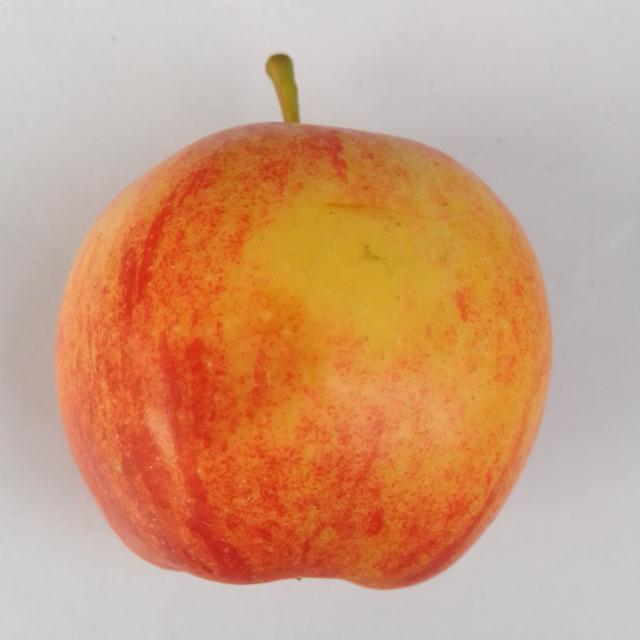Fresh Apple: (48, 115, 557, 598)
